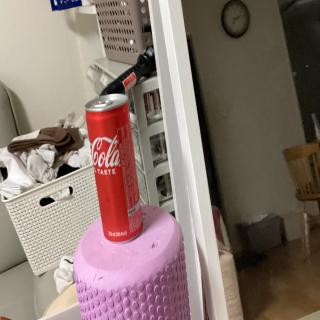cocacola: (81, 88, 149, 247)
